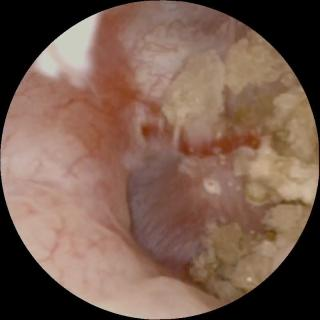stone: (165, 33, 295, 147), (191, 207, 309, 299), (232, 88, 316, 205)
tissue: (4, 5, 245, 311)
